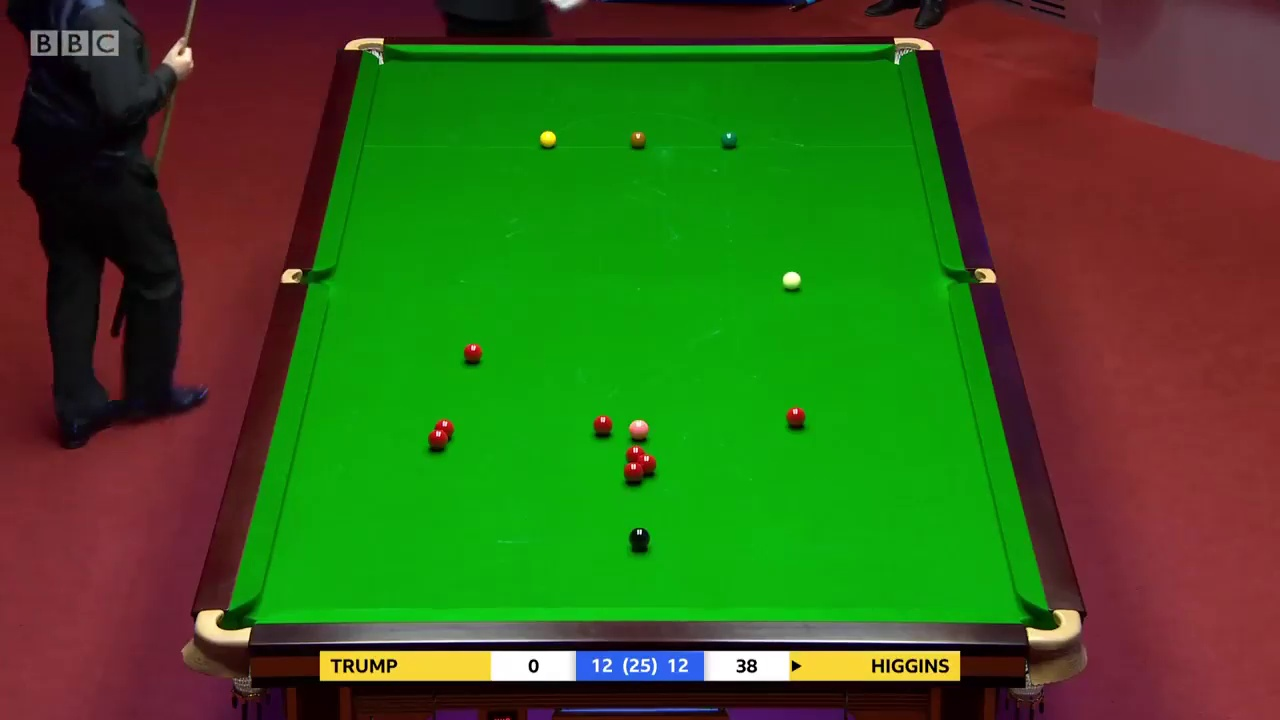ball: (426, 428, 450, 452), (628, 526, 652, 550), (620, 464, 645, 487), (628, 417, 650, 442), (461, 340, 484, 362), (786, 405, 805, 430), (780, 271, 803, 291), (595, 413, 612, 438), (719, 130, 738, 149), (629, 131, 647, 149), (541, 130, 558, 148)
